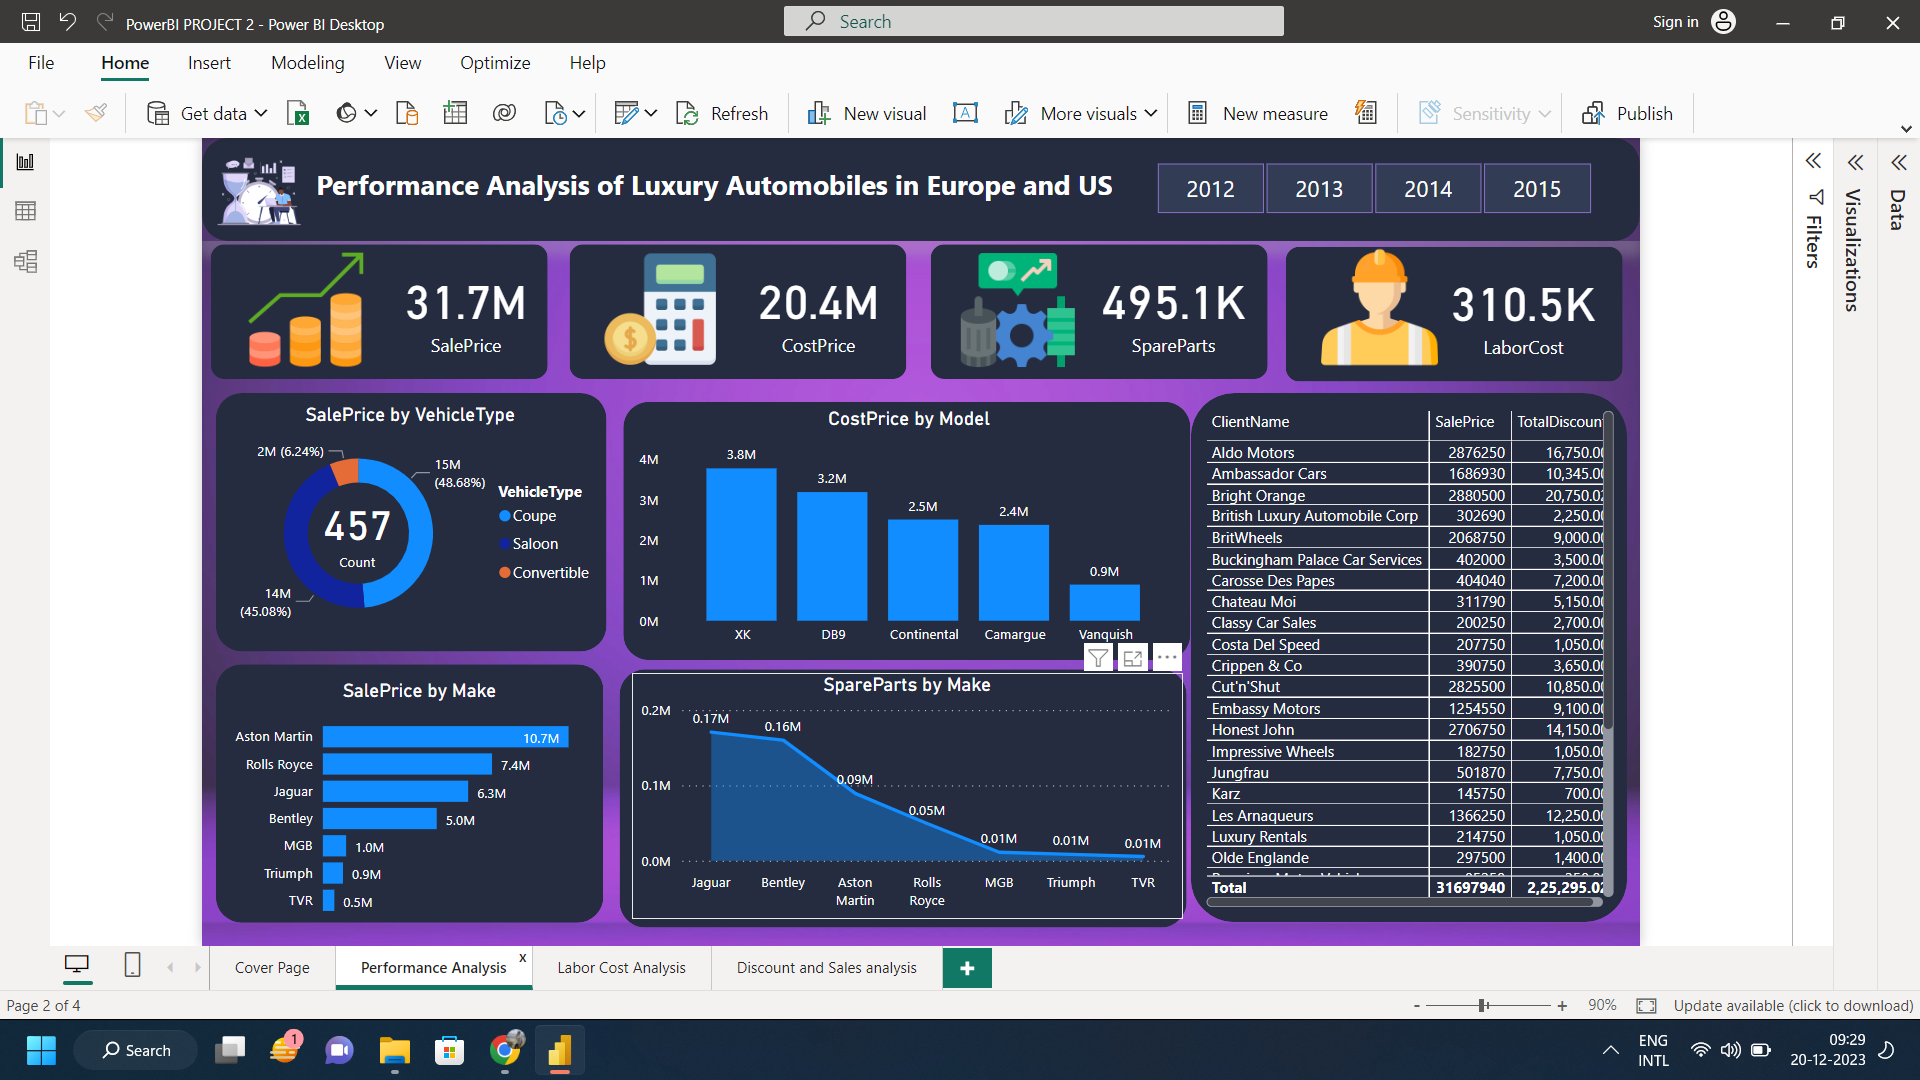

This screenshot's page, from the dashboard's own definition file:
{"tool":"powerbi","page":{"name":"Performance Analysis","canvas":[1280,720],"ordinal":1},"visuals":[{"type":"shape","box":[12.8,227.2,347.9,230.1],"z":0},{"type":"shape","box":[12.8,468.6,345.1,230.1],"z":1000},{"type":"shape","box":[375,235,505,230],"z":2000},{"type":"shape","box":[371.7,473.3,505,230],"z":3000},{"type":"shape","box":[879.7,226.9,388.7,471.3],"z":4000},{"type":"shape","box":[0,0,1280,91.7],"z":5000},{"type":"textbox","box":[51.4,20,810,50],"z":6000},{"type":"slicer","fields":{"Values":["BaseData.ReportingYear"]},"box":[824.3,15.7,435.7,58.6],"z":7000},{"type":"shape","box":[8.3,95,300,120],"z":8000},{"type":"shape","box":[326.7,95,300,120],"z":9000},{"type":"shape","box":[648.3,95,300,120],"z":10000},{"type":"shape","box":[965,96.7,300,120],"z":11000},{"type":"card","fields":{"Values":["Sum(BaseData.SalePrice)"]},"box":[163.3,99,143.4,107.9],"z":12000},{"type":"card","fields":{"Values":["Sum(BaseData.CostPrice)"]},"box":[477.2,99,143.4,107.9],"z":13000},{"type":"card","fields":{"Values":["Sum(BaseData.SpareParts)"]},"box":[793.8,99,143.4,107.9],"z":14000},{"type":"card","fields":{"Values":["Sum(BaseData.LaborCost)"]},"box":[1105,100,143.3,108.3],"z":15000},{"type":"image","box":[21.3,96.6,142,112.2],"z":16000},{"type":"image","box":[338,98,139.2,109.3],"z":17000},{"type":"image","box":[991.2,89.5,113.6,123.6],"z":18000},{"type":"image","box":[660.4,92.3,132.1,122.1],"z":19000},{"type":"donutChart","fields":{"Y":["Sum(BaseData.SalePrice)"],"Category":["BaseData.VehicleType"]},"box":[9.9,235.7,350.8,213],"z":20000},{"type":"clusteredBarChart","fields":{"Y":["Sum(BaseData.SalePrice)"],"Category":["BaseData.Make"]},"box":[18.3,481.7,351.7,221.7],"z":21000},{"type":"clusteredColumnChart","fields":{"Y":["Sum(BaseData.CostPrice)"],"Category":["BaseData.Model"]},"box":[383.5,238.8,490.9,220.7],"z":22000},{"type":"tableEx","fields":{"Values":["BaseData.ClientName","Sum(BaseData.SalePrice)","Sum(BaseData.TotalDiscount)"]},"box":[887.9,238.5,373.5,451.5],"z":23000},{"type":"card","fields":{"Values":["CountNonNull(BaseData.VehicleType)"]},"box":[98,308.2,80.9,83.8],"z":24000},{"type":"areaChart","fields":{"Y":["Sum(BaseData.SpareParts)"],"Category":["BaseData.Make"]},"box":[383.3,476.7,490,218.3],"z":25000},{"type":"image","box":[2.9,0,95.7,95.7],"z":26000}]}

Visuals, with their boxes on the page's 1280x720 design canvas (x1, y1, x2, y2). These are canvas units, not pixel positions in the 1920x1080 screenshot, which may show the page scaled, cropped or inside an application window:
shape: {"x1": 13, "y1": 227, "x2": 361, "y2": 457}
shape: {"x1": 13, "y1": 469, "x2": 358, "y2": 699}
shape: {"x1": 375, "y1": 235, "x2": 880, "y2": 465}
shape: {"x1": 372, "y1": 473, "x2": 877, "y2": 703}
shape: {"x1": 880, "y1": 227, "x2": 1268, "y2": 698}
shape: {"x1": 0, "y1": 0, "x2": 1280, "y2": 92}
textbox: {"x1": 51, "y1": 20, "x2": 861, "y2": 70}
slicer - BaseData.ReportingYear: {"x1": 824, "y1": 16, "x2": 1260, "y2": 74}
shape: {"x1": 8, "y1": 95, "x2": 308, "y2": 215}
shape: {"x1": 327, "y1": 95, "x2": 627, "y2": 215}
shape: {"x1": 648, "y1": 95, "x2": 948, "y2": 215}
shape: {"x1": 965, "y1": 97, "x2": 1265, "y2": 217}
card - Sum(BaseData.SalePrice): {"x1": 163, "y1": 99, "x2": 307, "y2": 207}
card - Sum(BaseData.CostPrice): {"x1": 477, "y1": 99, "x2": 621, "y2": 207}
card - Sum(BaseData.SpareParts): {"x1": 794, "y1": 99, "x2": 937, "y2": 207}
card - Sum(BaseData.LaborCost): {"x1": 1105, "y1": 100, "x2": 1248, "y2": 208}
image: {"x1": 21, "y1": 97, "x2": 163, "y2": 209}
image: {"x1": 338, "y1": 98, "x2": 477, "y2": 207}
image: {"x1": 991, "y1": 90, "x2": 1105, "y2": 213}
image: {"x1": 660, "y1": 92, "x2": 792, "y2": 214}
donutChart - Sum(BaseData.SalePrice) x BaseData.VehicleType: {"x1": 10, "y1": 236, "x2": 361, "y2": 449}
clusteredBarChart - Sum(BaseData.SalePrice) x BaseData.Make: {"x1": 18, "y1": 482, "x2": 370, "y2": 703}
clusteredColumnChart - Sum(BaseData.CostPrice) x BaseData.Model: {"x1": 384, "y1": 239, "x2": 874, "y2": 460}
tableEx - BaseData.ClientName x Sum(BaseData.SalePrice): {"x1": 888, "y1": 238, "x2": 1261, "y2": 690}
card - CountNonNull(BaseData.VehicleType): {"x1": 98, "y1": 308, "x2": 179, "y2": 392}
areaChart - Sum(BaseData.SpareParts) x BaseData.Make: {"x1": 383, "y1": 477, "x2": 873, "y2": 695}
image: {"x1": 3, "y1": 0, "x2": 99, "y2": 96}
